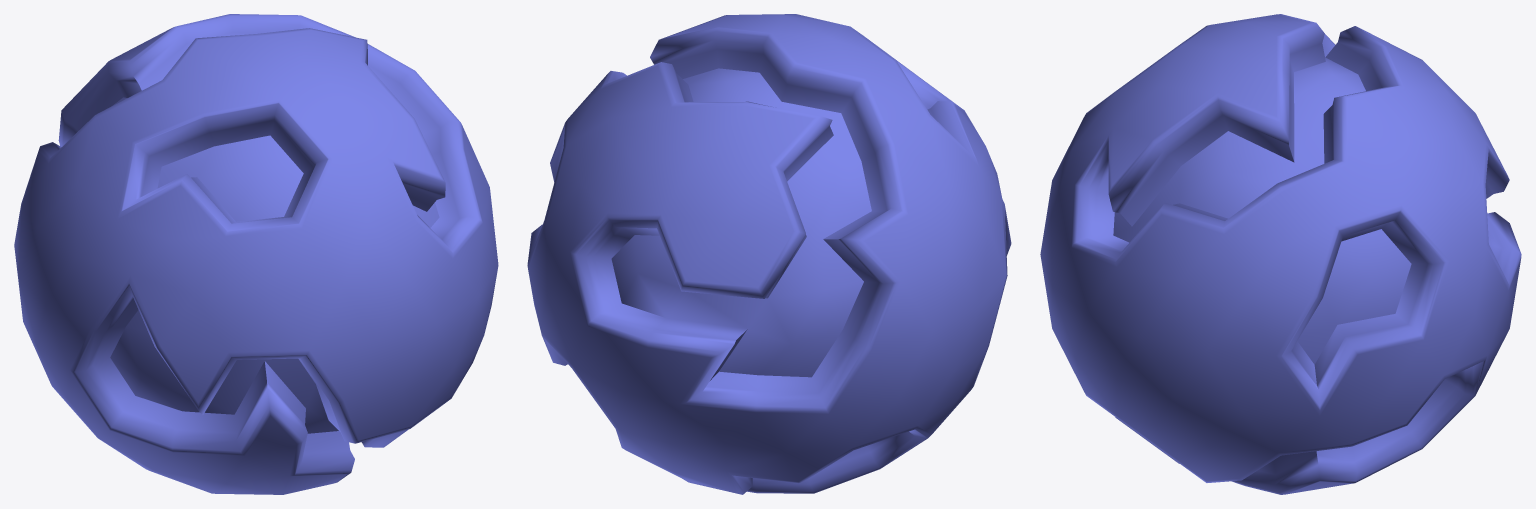
File: sm_planete1.fbx
3 renders of one model, left to right at view 1: azimuth 30°, elevation 25°; view 2: azimuth 150°, elevation 25°; view 3: azimuth 270°, elevation 25°, orthographic.
Parts seen in each view (by area): view 1: sm_planete1; view 2: sm_planete1; view 3: sm_planete1.
Boxes of the visible parts, x1=… form: sm_planete1: x1=14, y1=14, x2=498, y2=494; sm_planete1: x1=527, y1=14, x2=1011, y2=494; sm_planete1: x1=1040, y1=14, x2=1521, y2=494.
Size of the model in its own units: 200 by 200 by 200.
